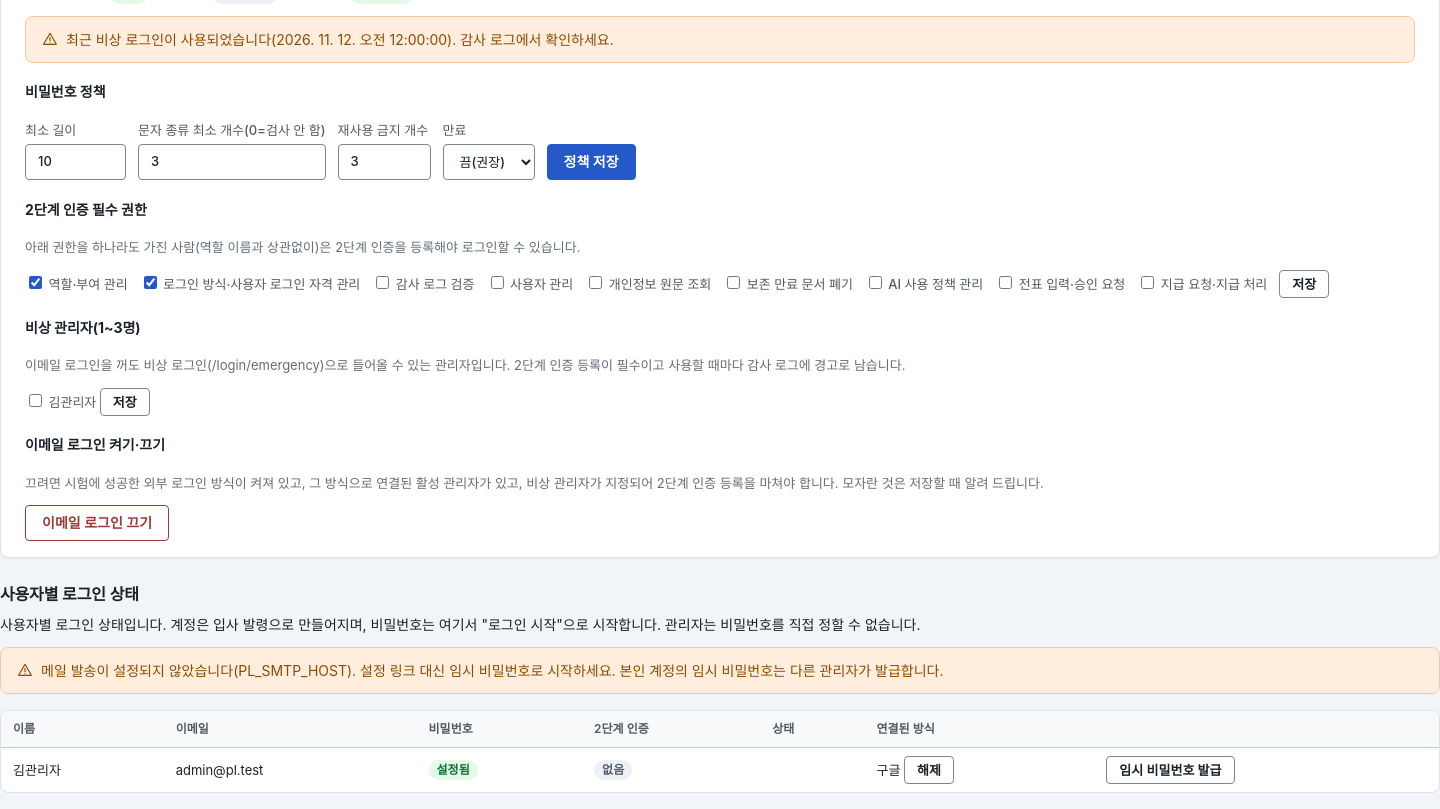
Test: 로그인 설정: 정책 › 이메일 로그인 끄기 거부 사유가 보이고, 비상 로그인 사용 알림이 상단에 있다
The image size is (1440, 809).
(page scrolled)
Expected: the text "최근 비상 로그인이 사용되었습니다" is shown, [66,30,276,48]
Click the button "이메일 로그인 끄기" at (97, 523), box [25,505,169,541]
(page scrolled)
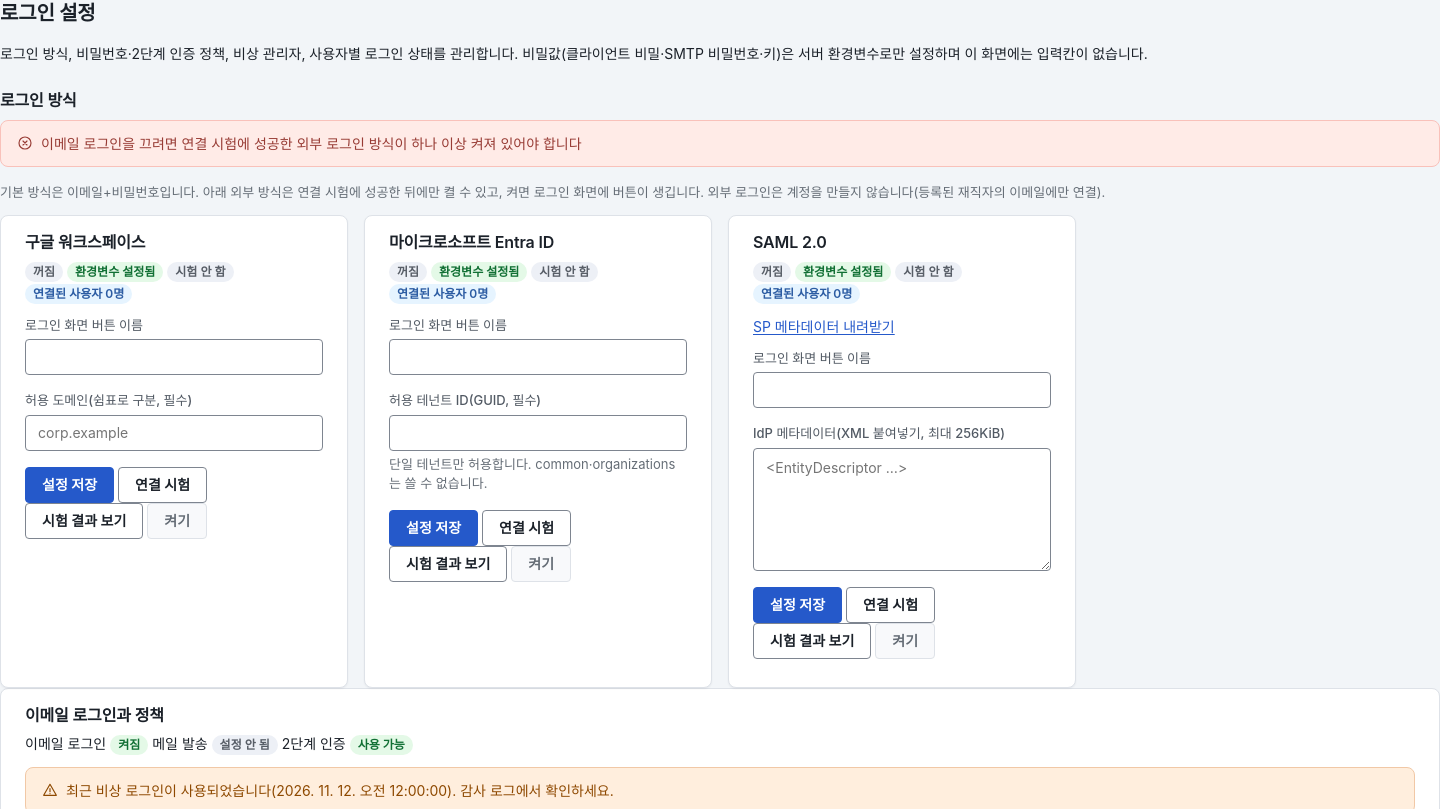
Expected: the message "이메일 로그인을 끄려면 연결 시험에 성공한 외부 로그인 방식이 하나 이상 켜져 있어야 합니다" is shown, [0,120,1439,167]
